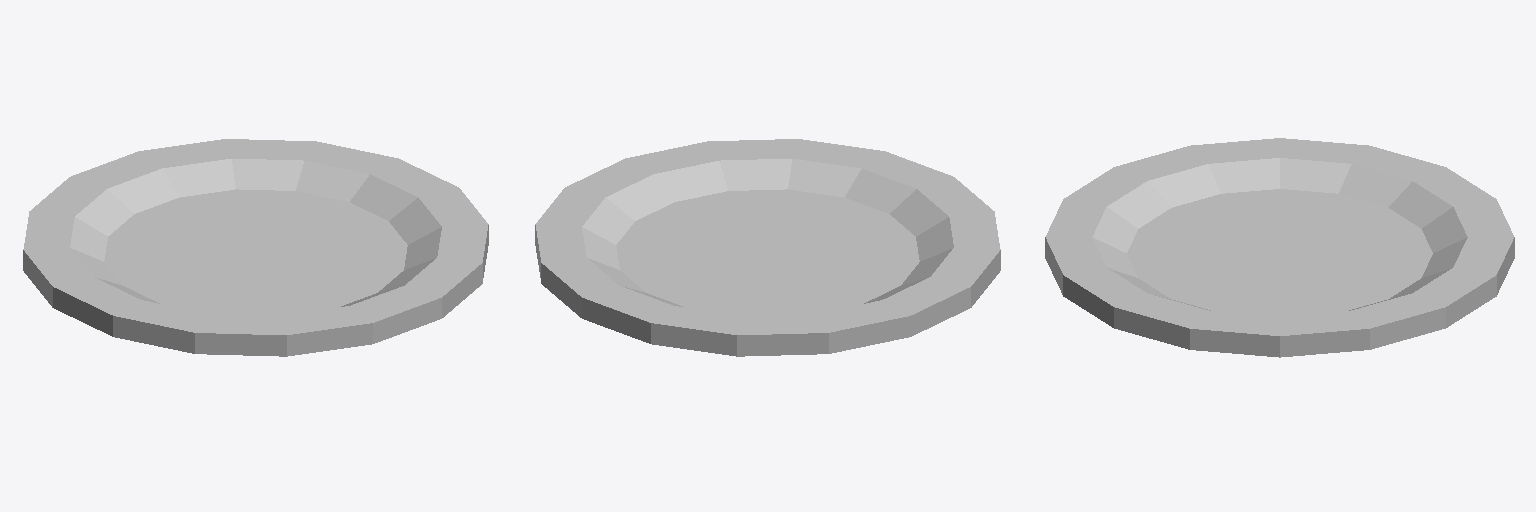
File: Dish.obj
3 renders of one model, left to right at view 1: azimuth 30°, elevation 25°; view 2: azimuth 150°, elevation 25°; view 3: azimuth 270°, elevation 25°, orthographic.
Parts seen in each view (by area): view 1: Dish; view 2: Dish; view 3: Dish.
Boxes of the visible parts, box(x1,y1,x2,y2) form: Dish: box(23, 139, 488, 356); Dish: box(535, 139, 1000, 356); Dish: box(1045, 138, 1514, 357).
Bounding box in the file's own units: 2 × 0.1773 × 2.